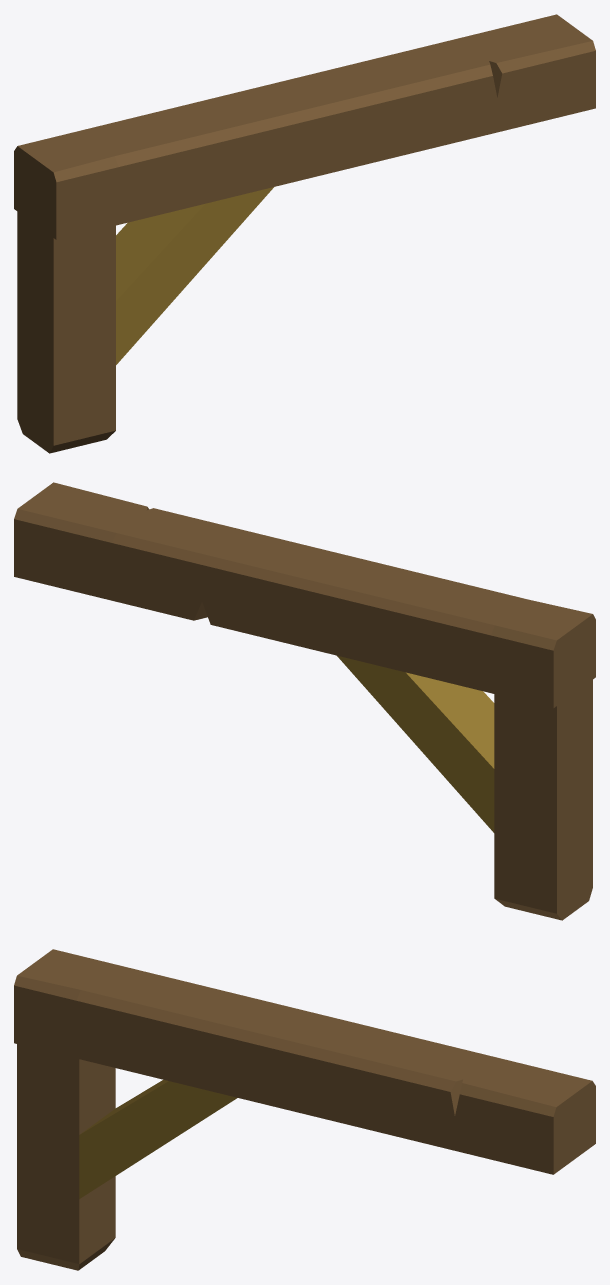
File: wood_structure_1.glb
The picture shows the model from 3 angles, top to bottom: view 1: azimuth 30°, elevation 25°; view 2: azimuth 150°, elevation 25°; view 3: azimuth 330°, elevation 25°; orthographic projection.
Parts seen in each view (by area): view 1: wood_structure_1; view 2: wood_structure_1; view 3: wood_structure_1.
Part boxes in pixels (x1,y1,x2,y2): wood_structure_1: (14, 14, 595, 453); wood_structure_1: (14, 482, 595, 920); wood_structure_1: (14, 949, 595, 1270).
Bounding box in the file's own units: 1 × 0.5048 × 0.1369.
